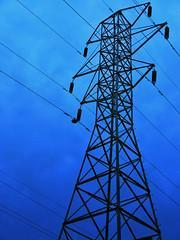power_tower: (68, 0, 168, 240)
